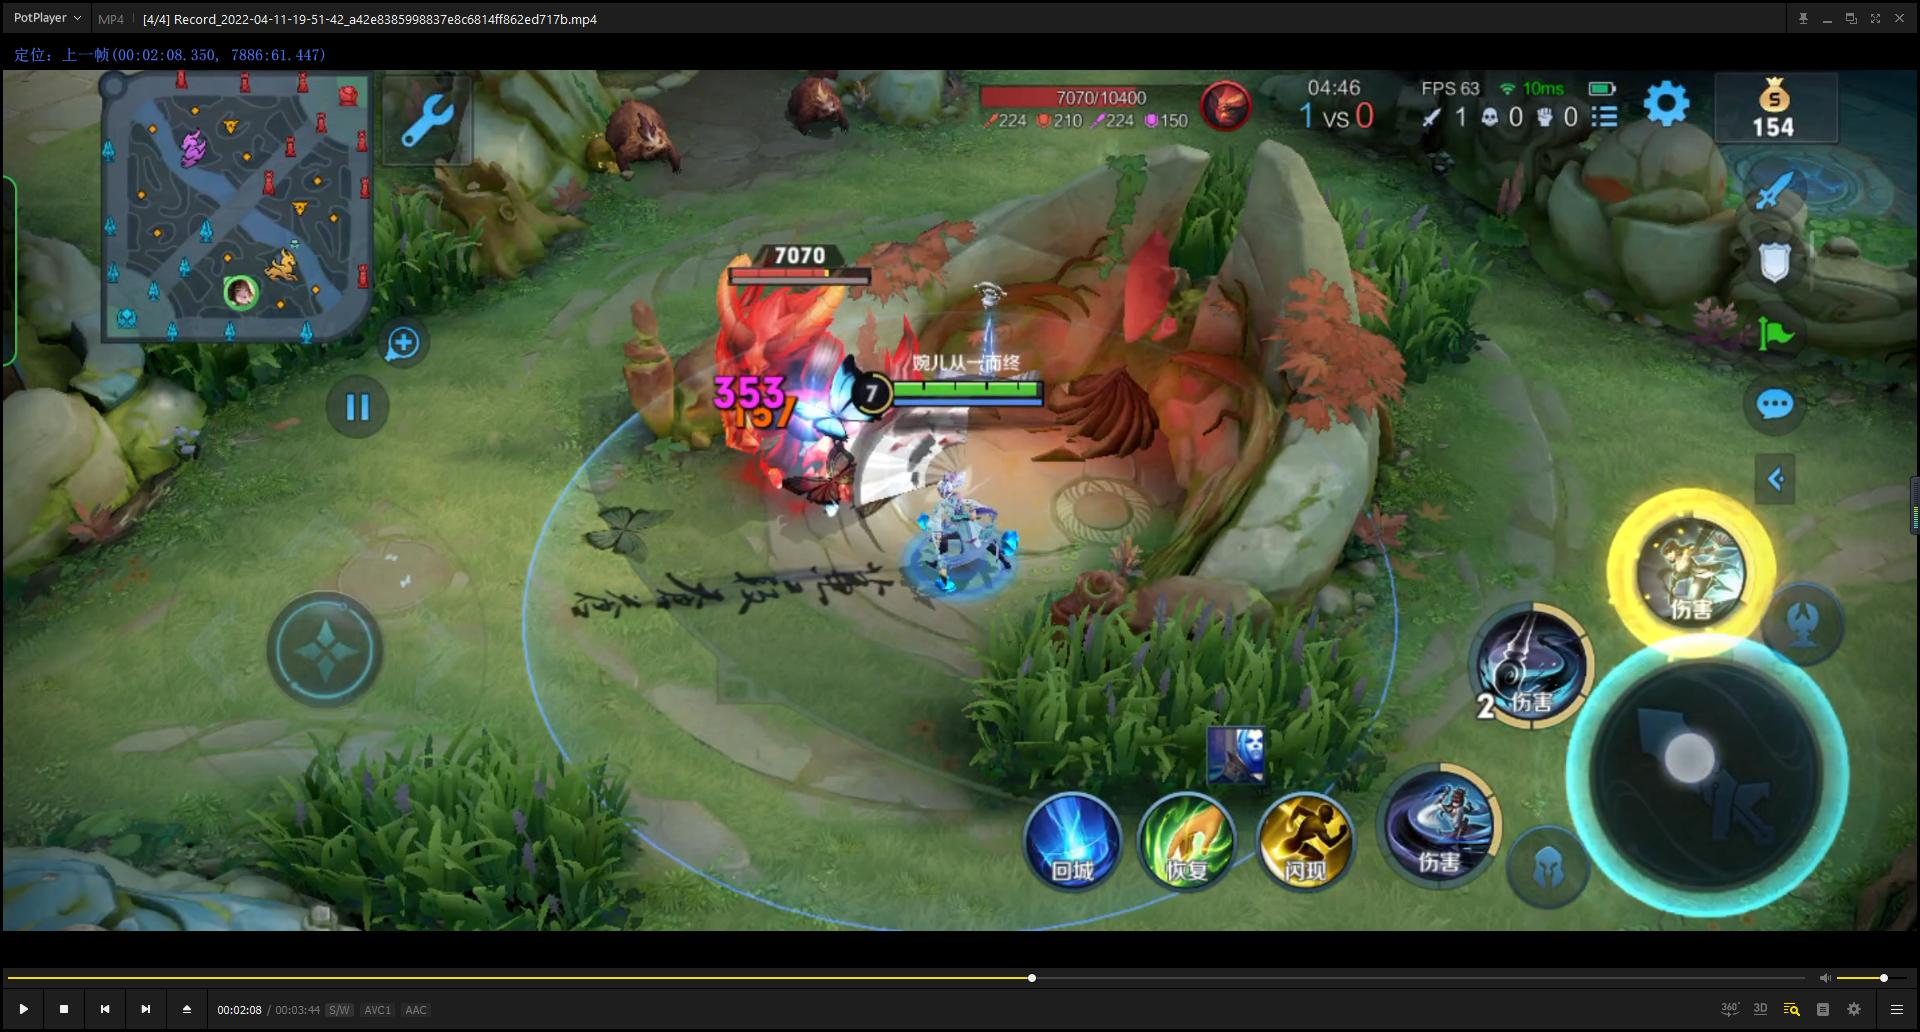Buff: (672, 220, 906, 534)
Hero: (854, 426, 1031, 630)
Pig: (562, 84, 704, 182), (785, 69, 860, 144)
